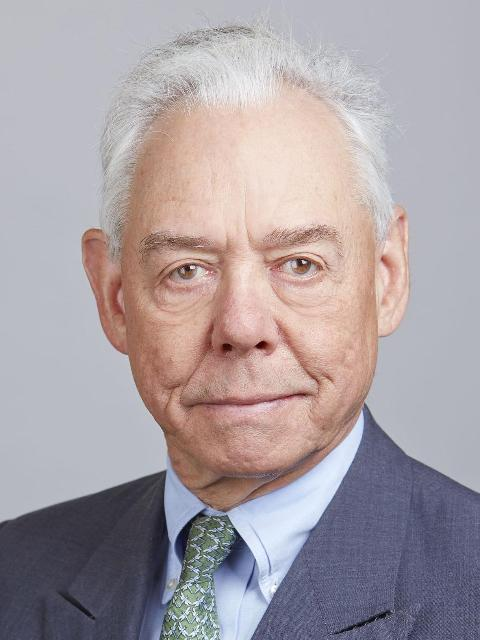frown_line: (234, 208, 262, 255)
gummy_smile: (278, 323, 318, 389), (182, 326, 216, 386)
sad_smile: (160, 377, 196, 435), (319, 364, 341, 392)
